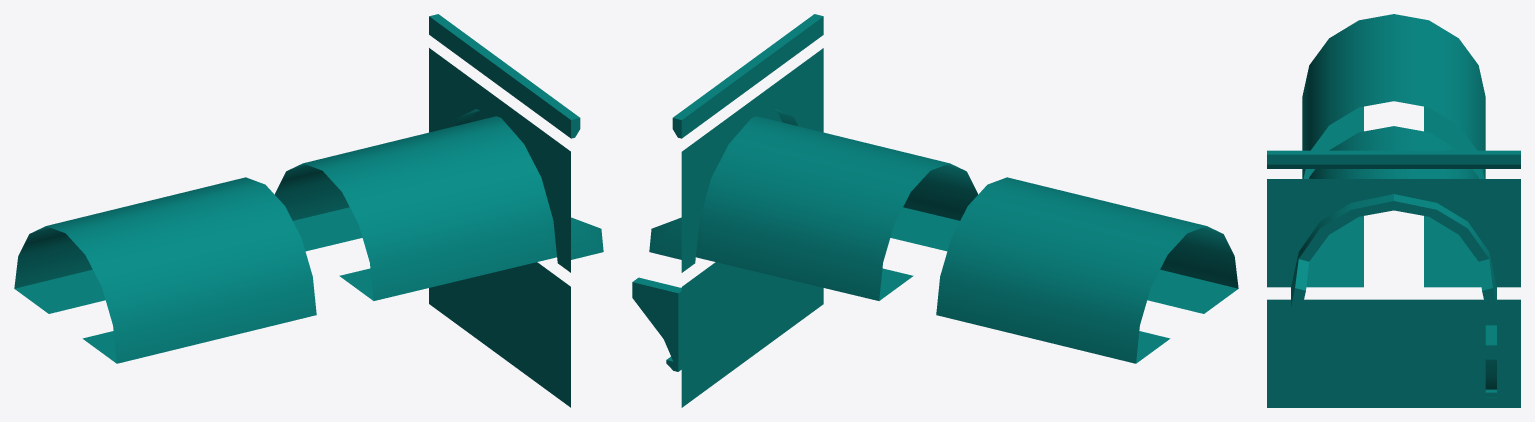
File: MESH_Tunnel_PACK(DEPRECIATED).fbx
The picture shows the model from 3 angles, left to right: view 1: azimuth 30°, elevation 25°; view 2: azimuth 150°, elevation 25°; view 3: azimuth 270°, elevation 25°; orthographic projection. The views are drawn at different scales.
Parts seen in each view (by area): view 1: Tunnel_Entrance, Tunnel_MidSection, Tunnel_Wall, Tunnel_WallEdge; view 2: Tunnel_Entrance, Tunnel_MidSection, Tunnel_Wall, Tunnel_WallEdge, Tunnel_Support; view 3: Tunnel_Entrance, Tunnel_Wall, Tunnel_MidSection, Tunnel_WallEdge, Tunnel_Support.
Boxes of the visible parts, x1,y1,x2,y2 form: Tunnel_Entrance: (275, 48, 603, 300); Tunnel_MidSection: (14, 177, 316, 363); Tunnel_Wall: (429, 262, 570, 407); Tunnel_WallEdge: (429, 14, 580, 138); Tunnel_Entrance: (649, 48, 977, 300); Tunnel_MidSection: (936, 177, 1238, 363); Tunnel_Wall: (681, 262, 823, 407); Tunnel_WallEdge: (672, 14, 823, 138); Tunnel_Support: (632, 277, 681, 371); Tunnel_Entrance: (1267, 126, 1520, 307); Tunnel_Wall: (1267, 299, 1520, 407); Tunnel_MidSection: (1302, 14, 1485, 178); Tunnel_WallEdge: (1267, 150, 1520, 168); Tunnel_Support: (1485, 325, 1496, 397).
Bounding box in the file's own units: 68.77 × 38.02 × 34.
